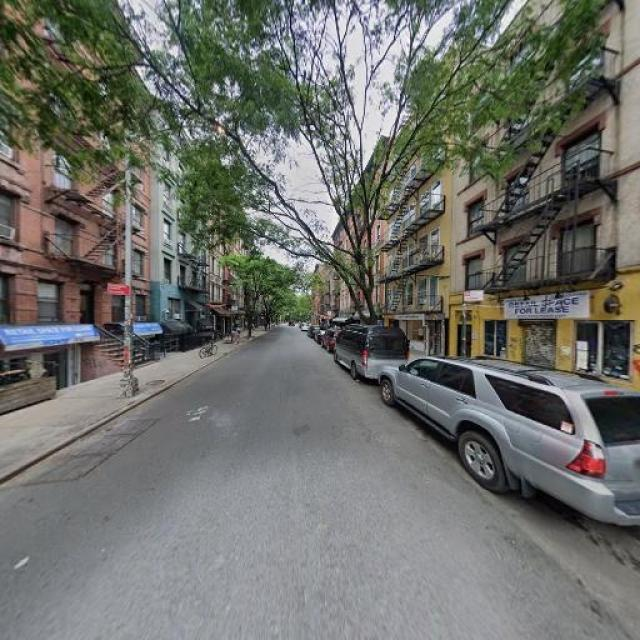Building: (452, 1, 640, 409), (1, 1, 149, 385)
